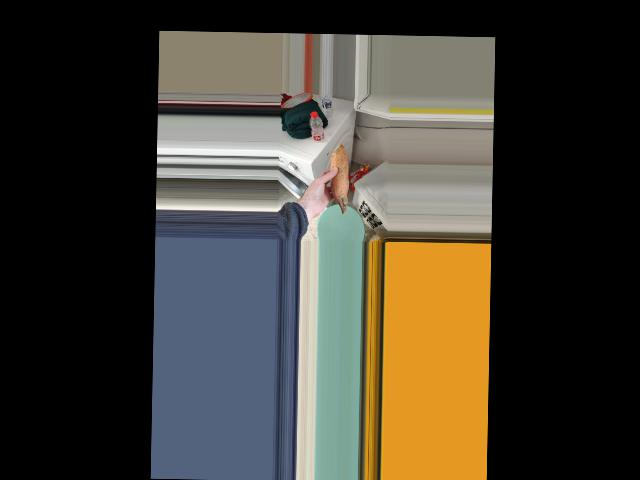sweet_potato: (324, 152, 348, 212)
